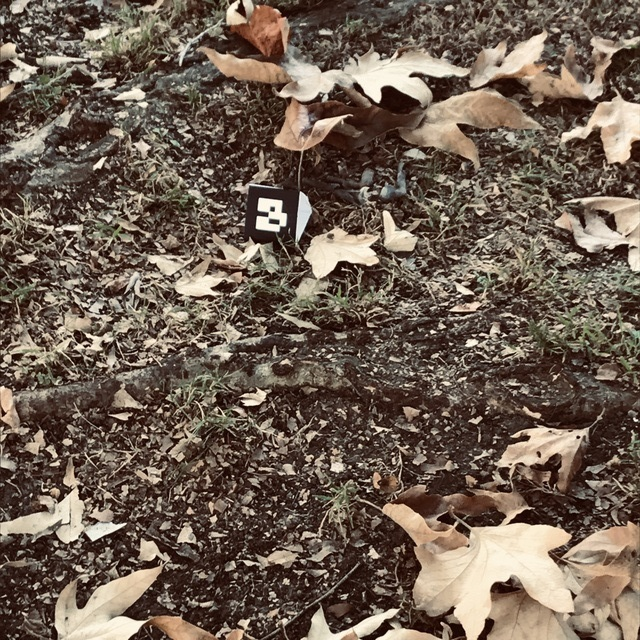ARTag: (244, 183, 313, 246)
